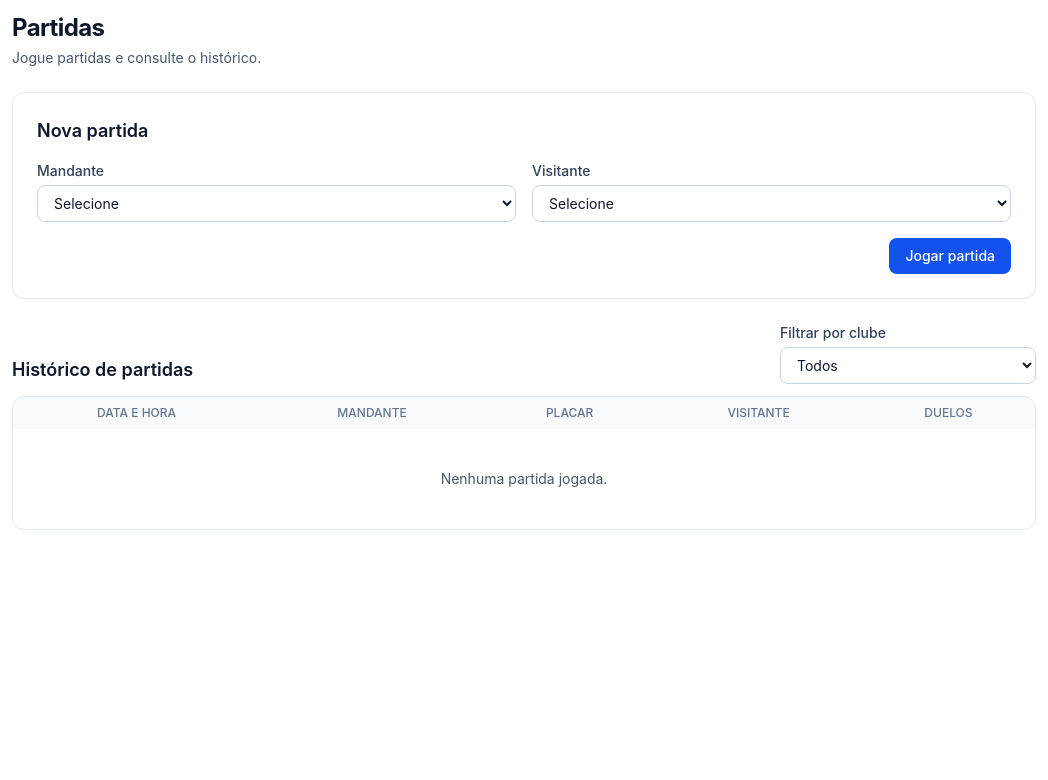
Test: MatchesPage › shows the API message when a club cannot play
The image size is (1048, 780).
Check: the text "Nenhuma partida jogada." is shown, box [441,470,607,487]
Select "Águias FC" in the dropdown labelled "Mandante" at point(276, 204), box [37,185,516,222]
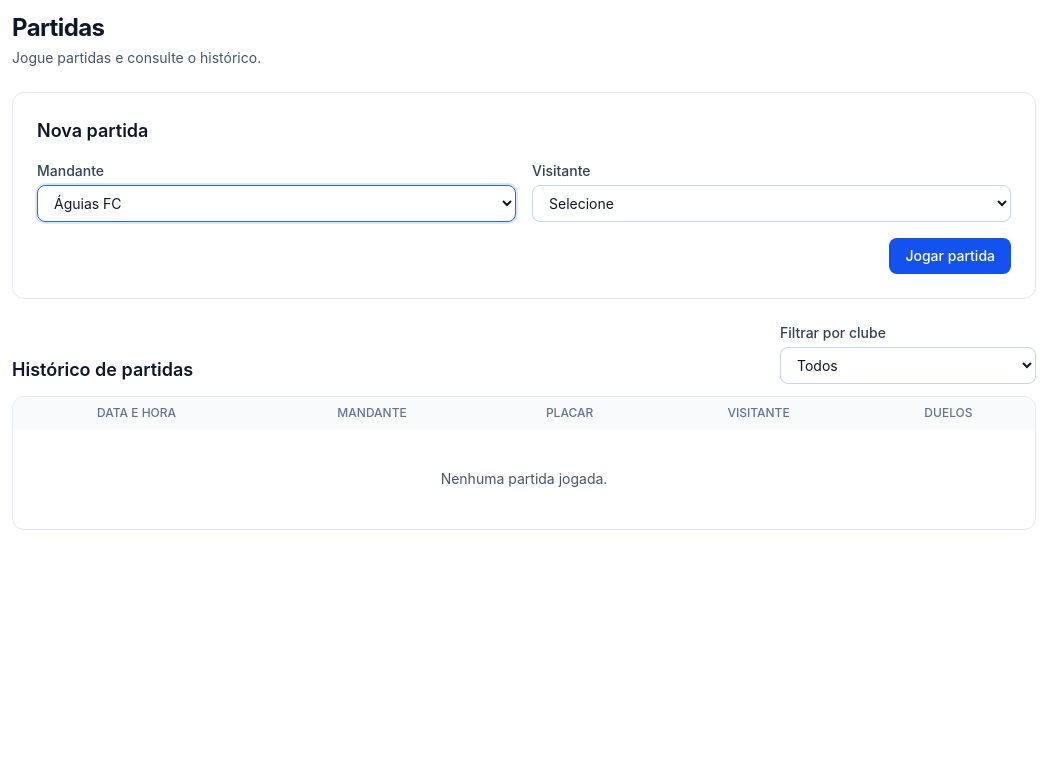
Select "Delta FC" in the dropdown labelled "Visitante" at point(772, 204), box [532,185,1011,222]
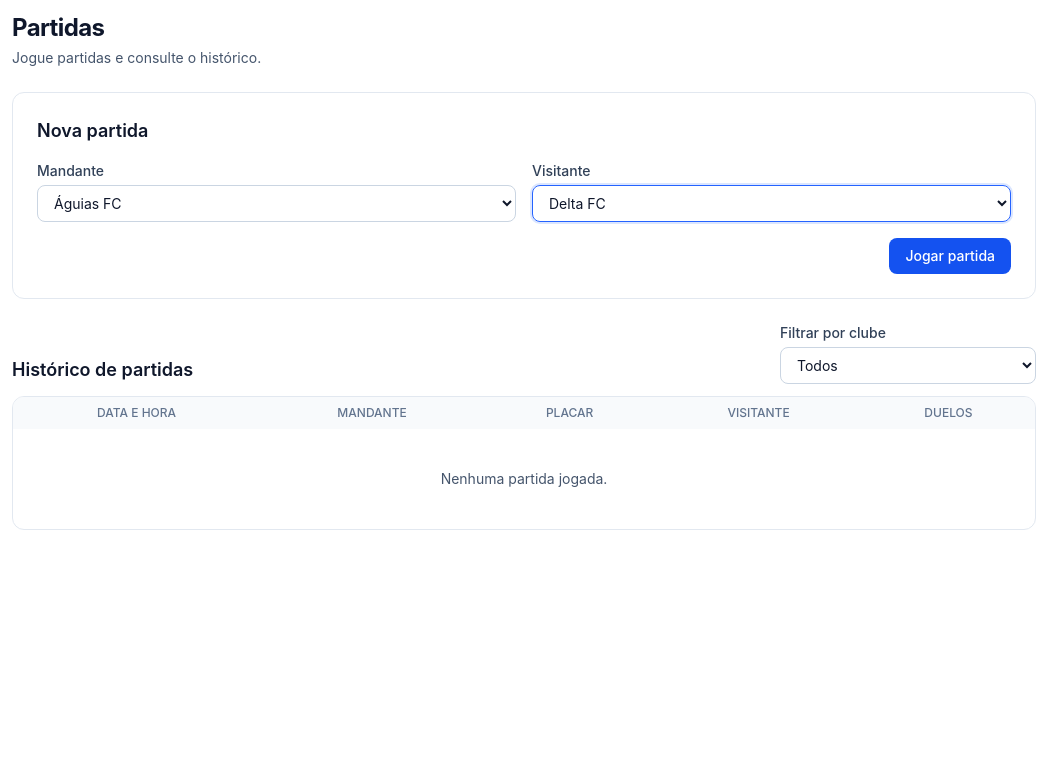
Click the button "Jogar partida" at point(950, 256), box [889,238,1011,274]
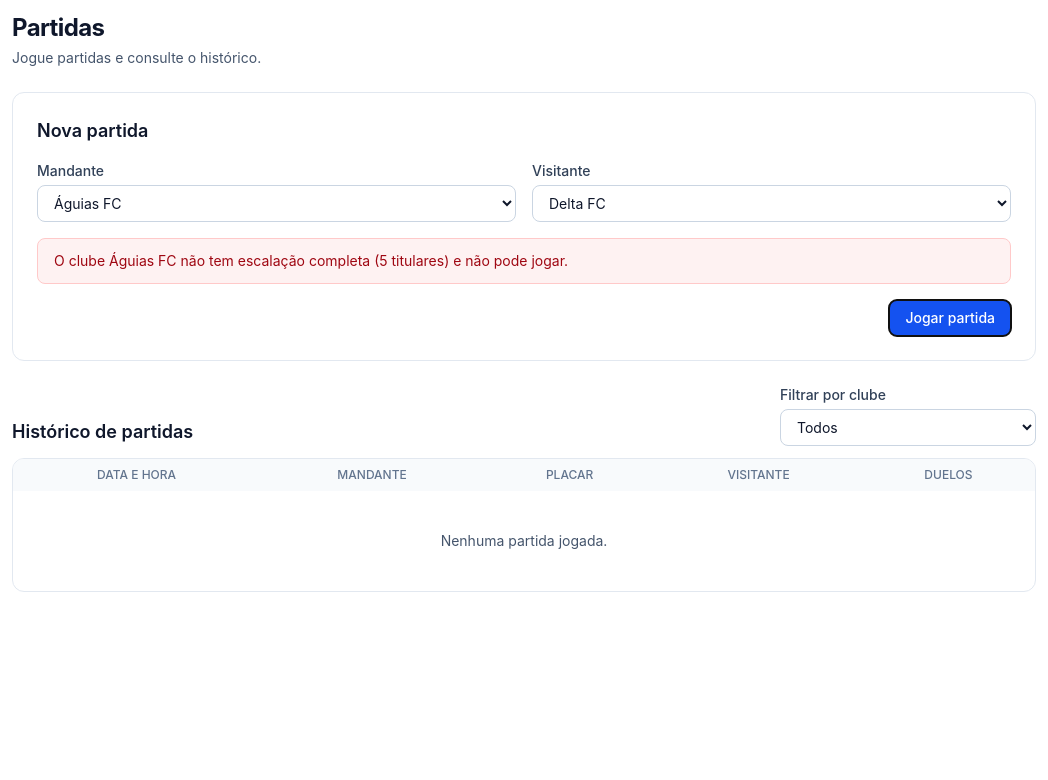
Check: the message reads "O clube Águias FC não tem escalação completa (5 titulares) e não pode jogar.", box [54,252,568,269]
